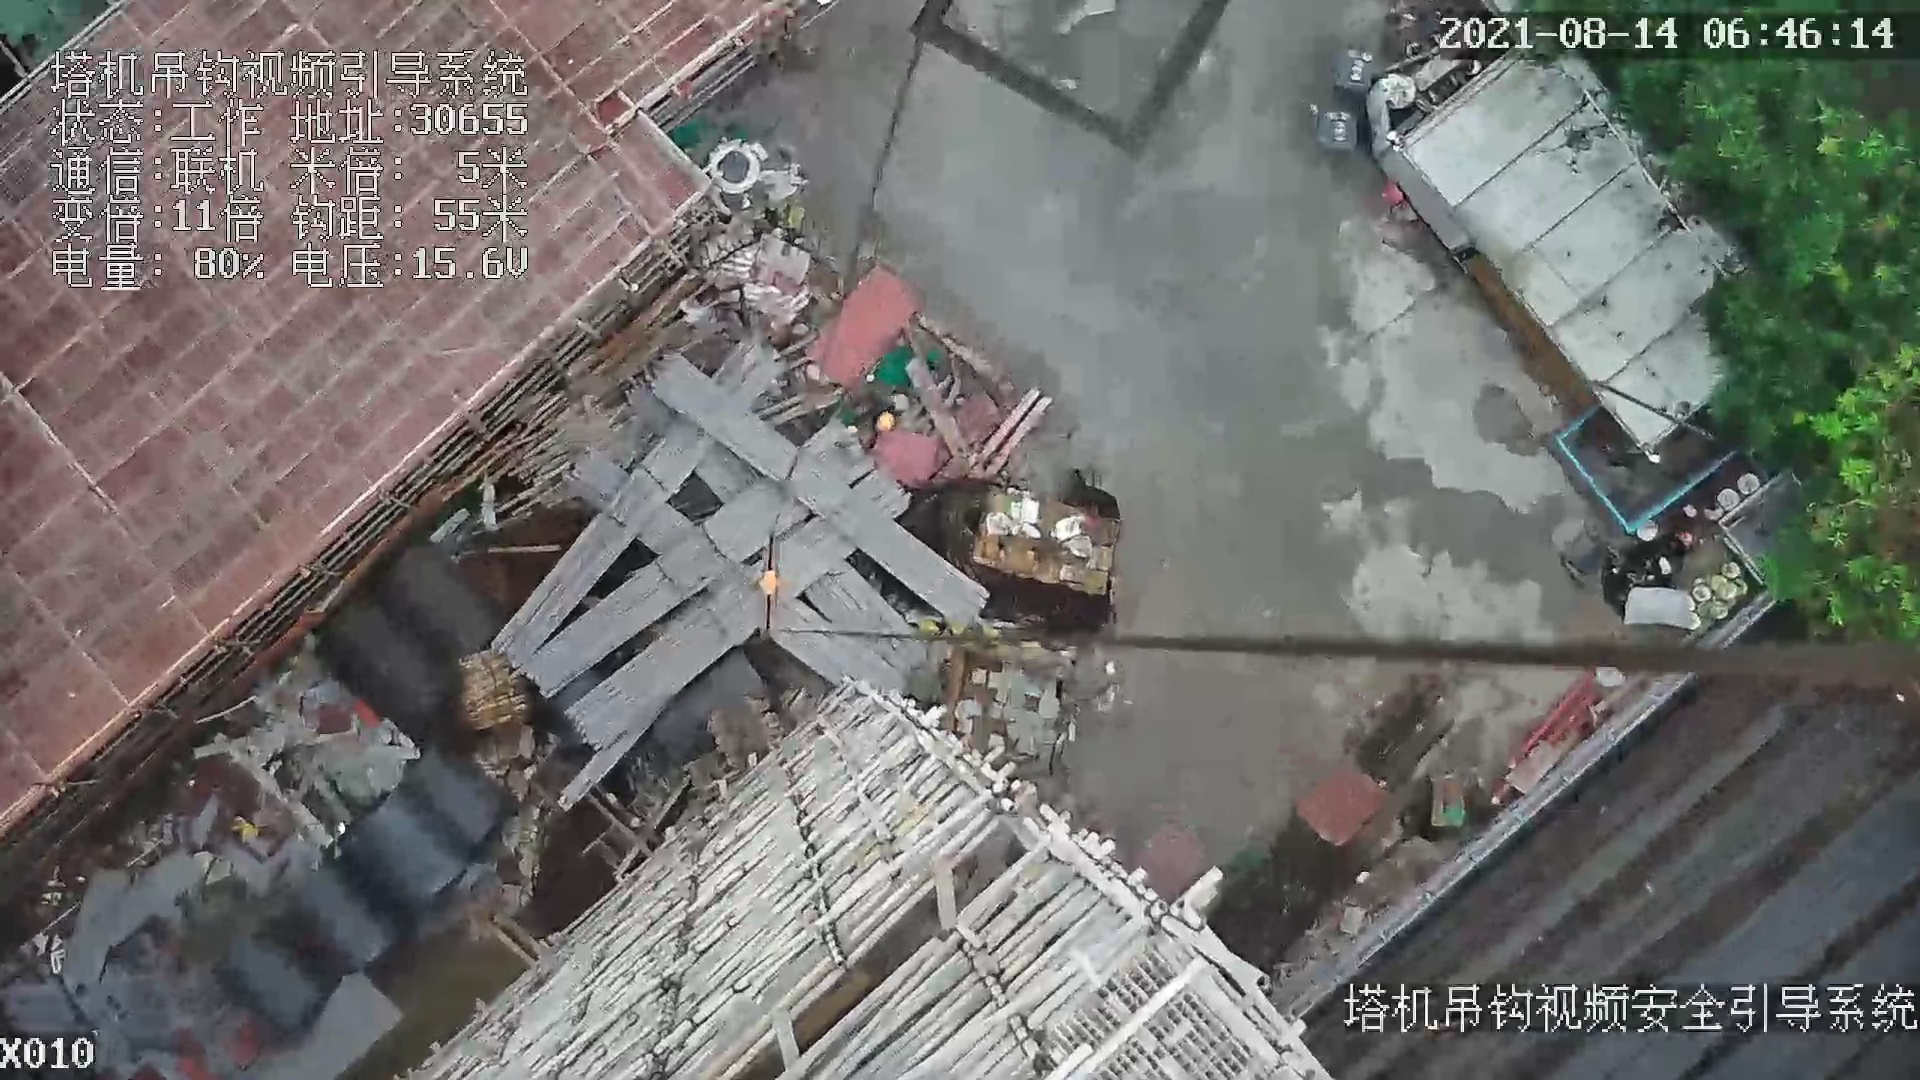helmet: (875, 412, 899, 428)
hook: (758, 532, 779, 637)
hopper: (1540, 386, 1743, 531)
person: (858, 401, 890, 442)
